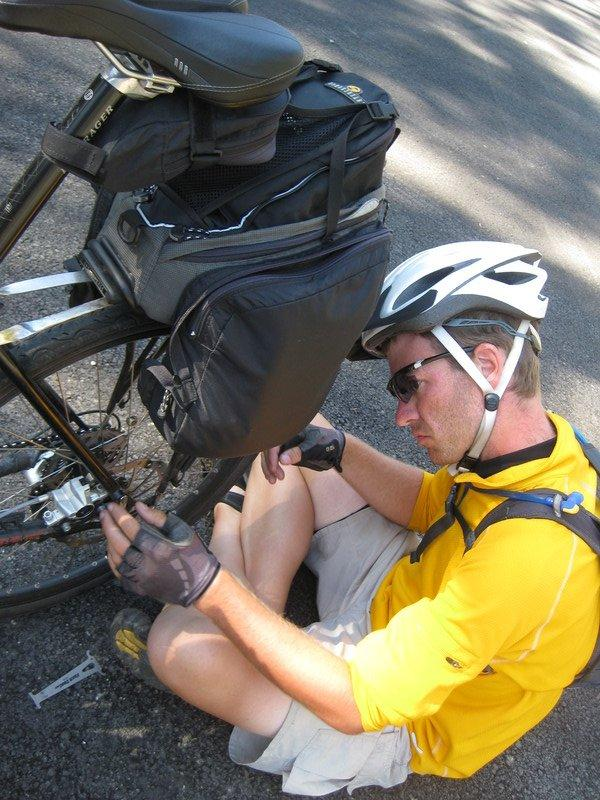person: (99, 229, 600, 799)
